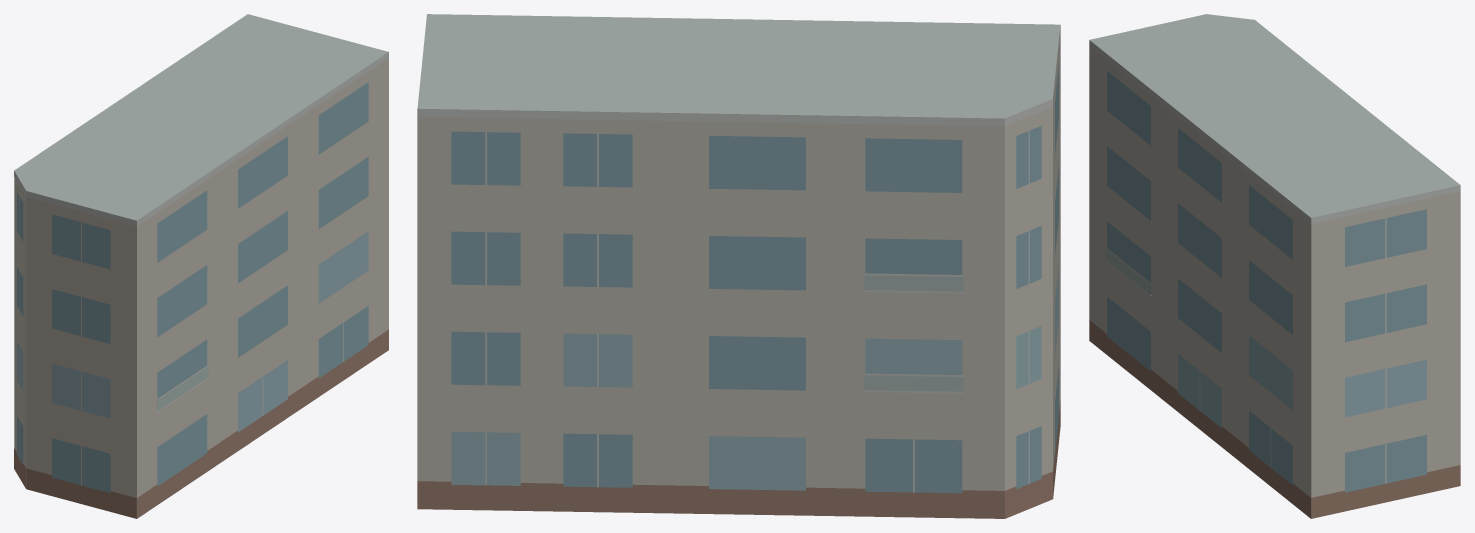
Rendered from survey-upis-32706505.glb.
3 renders of one model, left to right at view 1: azimuth 30°, elevation 25°; view 2: azimuth 150°, elevation 25°; view 3: azimuth 270°, elevation 25°, orthographic. The views are drawn at different scales.
Parts seen in each view (by area): view 1: survey-upis-32706505.tmp; view 2: survey-upis-32706505.tmp; view 3: survey-upis-32706505.tmp.
Part boxes in pixels (bbox=[...]): survey-upis-32706505.tmp: bbox=[14, 14, 388, 518]; survey-upis-32706505.tmp: bbox=[417, 14, 1060, 518]; survey-upis-32706505.tmp: bbox=[1089, 14, 1460, 518].
Bounding box in the file's own units: 17.75 × 12.2 × 13.65.
